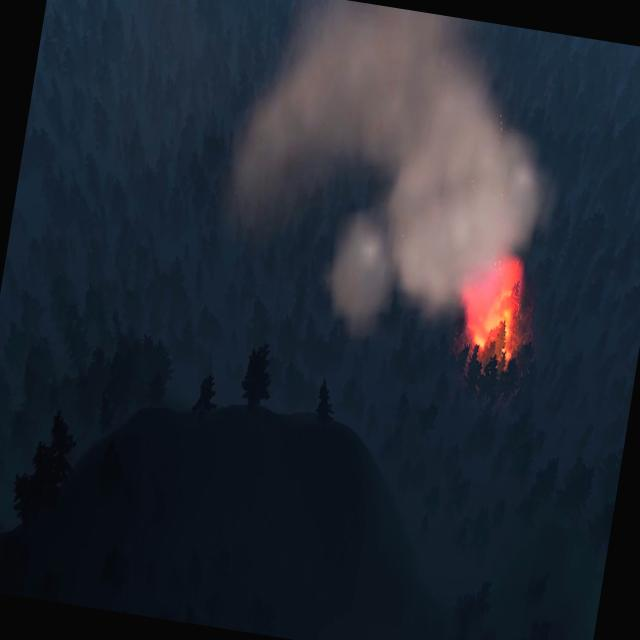fire: (454, 250, 534, 378)
smoke: (200, 0, 585, 368)
